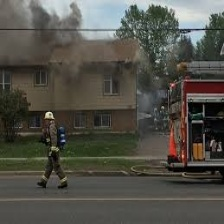smoke: (1, 1, 139, 89)
